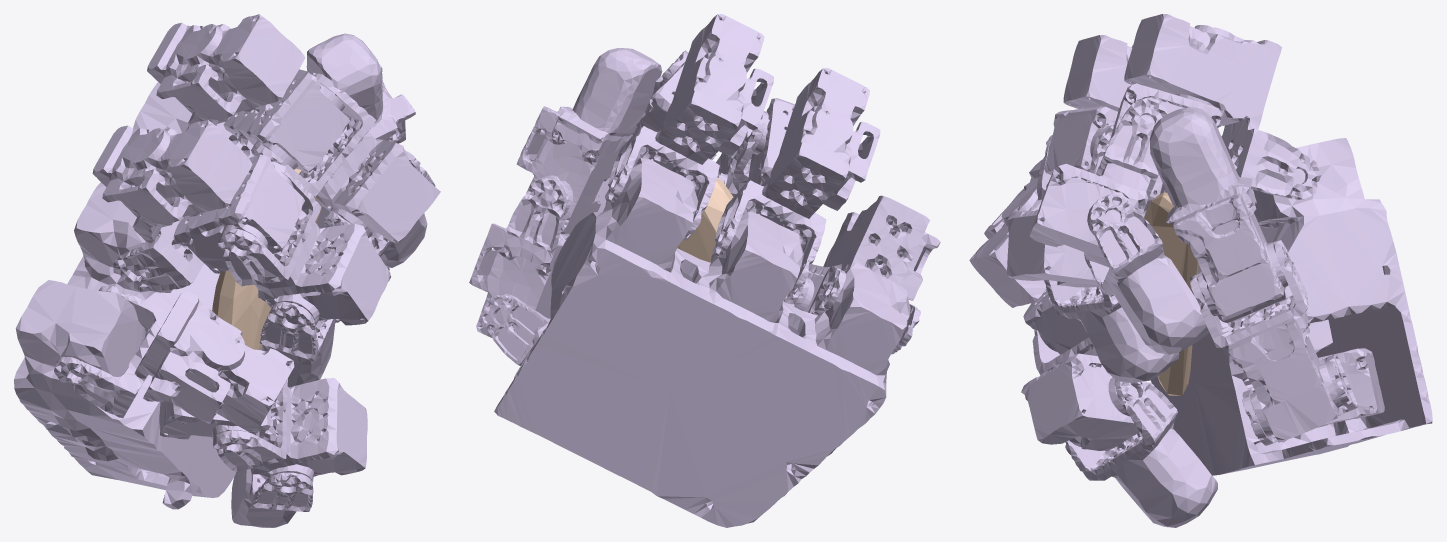
File: 60e628ef04b9c7-closed.glb
3 renders of one model, left to right at view 1: azimuth 30°, elevation 25°; view 2: azimuth 150°, elevation 25°; view 3: azimuth 270°, elevation 25°, orthographic. The views are drawn at different scales.
Visible parts, largest first — view 1: LEAP_hand, world; view 2: LEAP_hand, world; view 3: LEAP_hand, world.
Part boxes in pixels (x1=…): LEAP_hand: x1=14, y1=14, x2=440, y2=527; world: x1=212, y1=168, x2=322, y2=350; LEAP_hand: x1=469, y1=14, x2=940, y2=527; world: x1=677, y1=177, x2=733, y2=262; LEAP_hand: x1=969, y1=14, x2=1432, y2=527; world: x1=1144, y1=192, x2=1198, y2=395.
Size of the model in its own units: 0.164 by 0.1925 by 0.1599.
